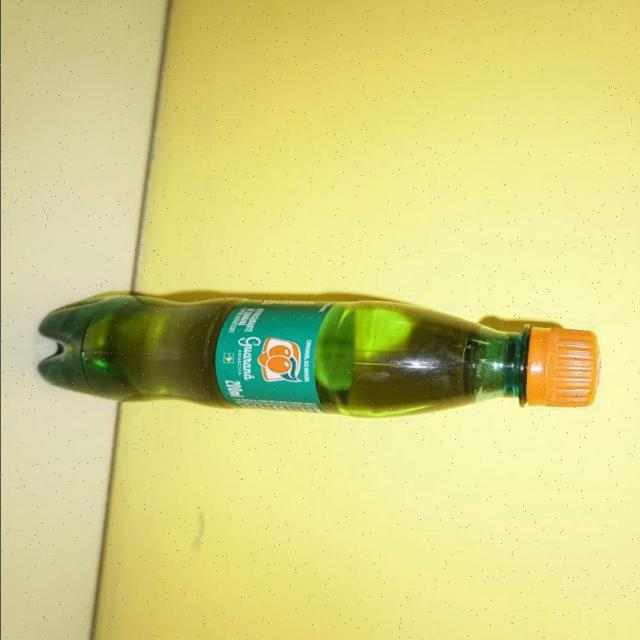Guarana: (34, 294, 598, 418)
